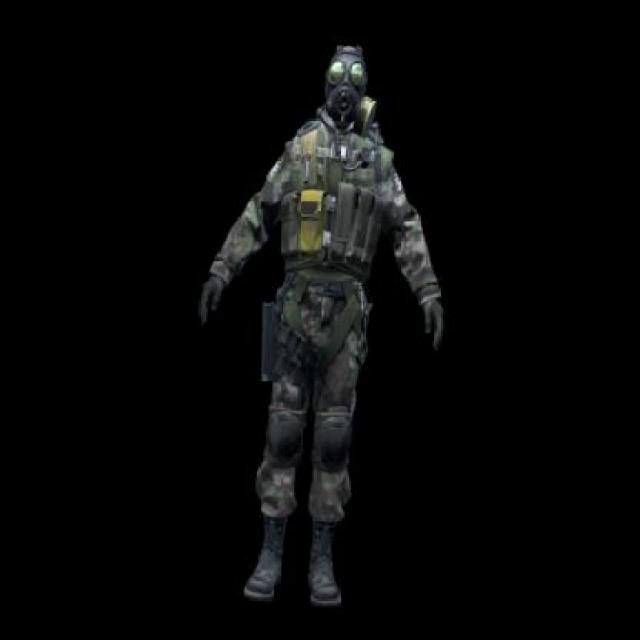MIL_Pax: (162, 25, 475, 628)
